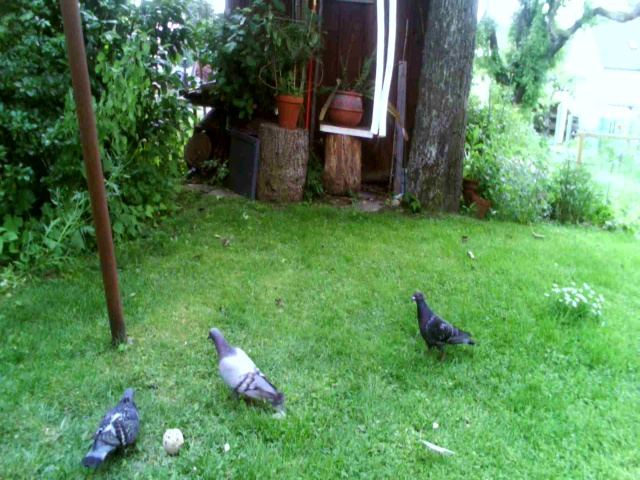Pigeon: (196, 324, 296, 415), (408, 283, 484, 369), (84, 388, 144, 468)
